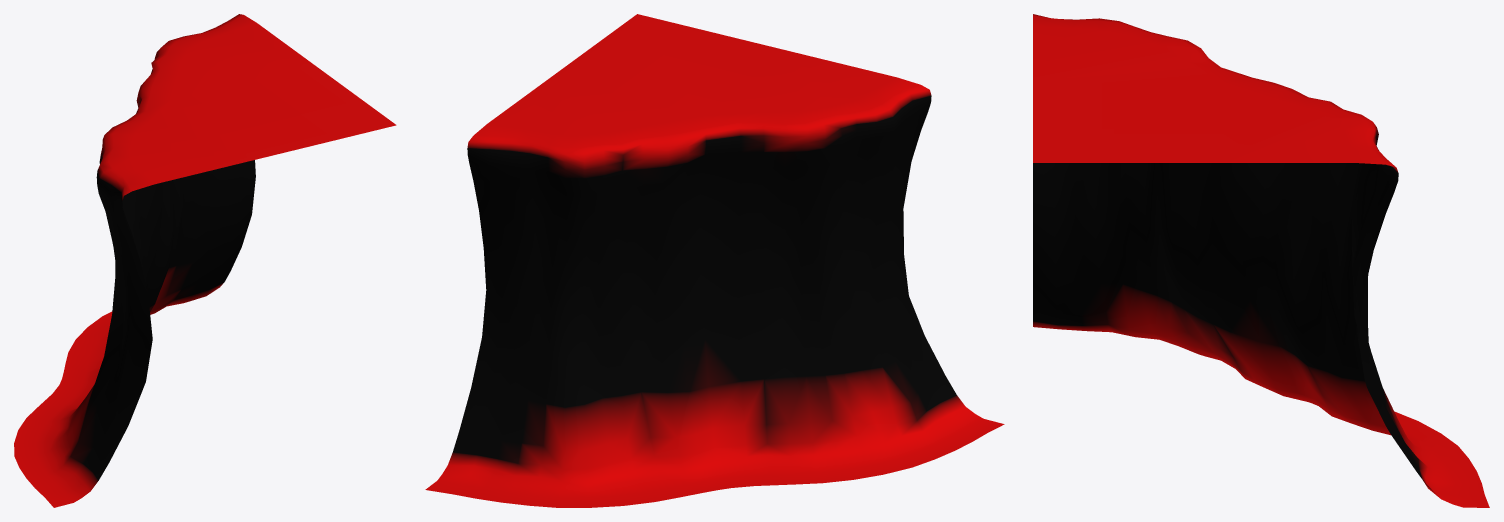
The model's file is GroundCliff03A 2M Background.fbx.
The picture shows the model from 3 angles, left to right: view 1: azimuth 30°, elevation 25°; view 2: azimuth 150°, elevation 25°; view 3: azimuth 270°, elevation 25°; orthographic projection. The views are drawn at different scales.
Visible parts, largest first — view 1: GroundCliff03A 2M Background; view 2: GroundCliff03A 2M Background; view 3: GroundCliff03A 2M Background.
Boxes of the visible parts, left/top/right/bottom form: GroundCliff03A 2M Background: left=14, top=14, right=396, bottom=507; GroundCliff03A 2M Background: left=425, top=14, right=1004, bottom=507; GroundCliff03A 2M Background: left=1033, top=14, right=1489, bottom=507.
Bounding box in the file's own units: 2.4 × 2 × 2.4.
